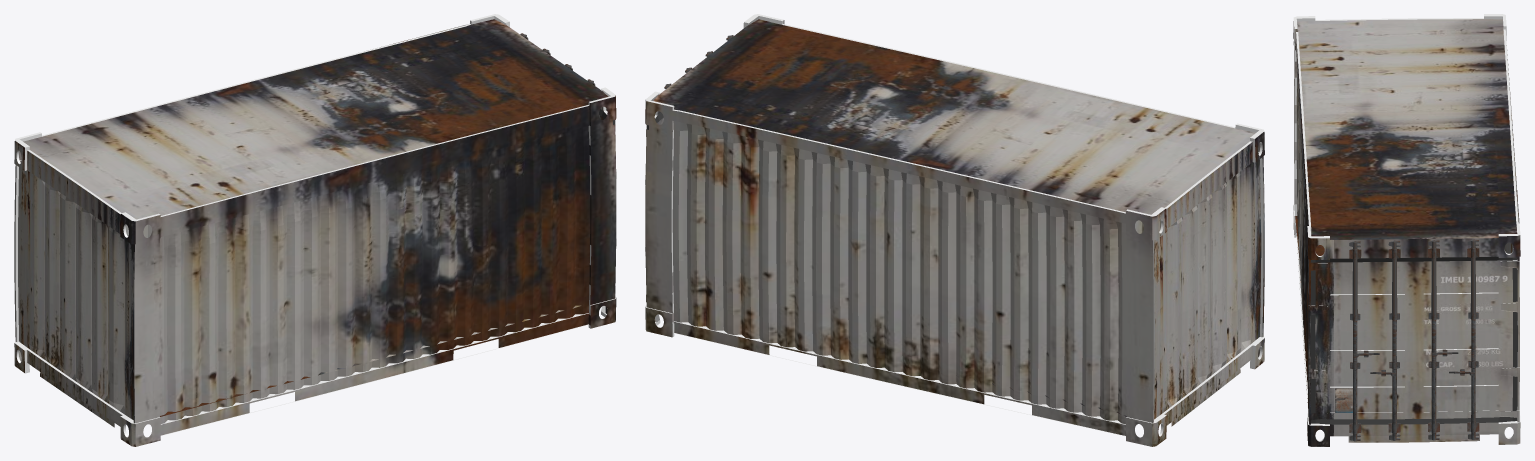
Rendered from 20-foot-container-reefer-white-dirty.fbx.
3 views of the same model, side by side, from view 1: azimuth 30°, elevation 25°; view 2: azimuth 150°, elevation 25°; view 3: azimuth 270°, elevation 25° (orthographic). The views are drawn at different scales.
Visible parts, largest first — view 1: Contenedor normal; view 2: Contenedor normal; view 3: Contenedor normal, Barras, Placa.
Part boxes in pixels (x1,y1,x2,y2): Contenedor normal: (14, 14, 616, 446); Contenedor normal: (645, 14, 1264, 446); Contenedor normal: (1293, 14, 1520, 446); Barras: (1349, 239, 1479, 441); Placa: (1335, 388, 1352, 412).
Size of the model in its own units: 622 by 268 by 264.
4 materials, 3 textured.
